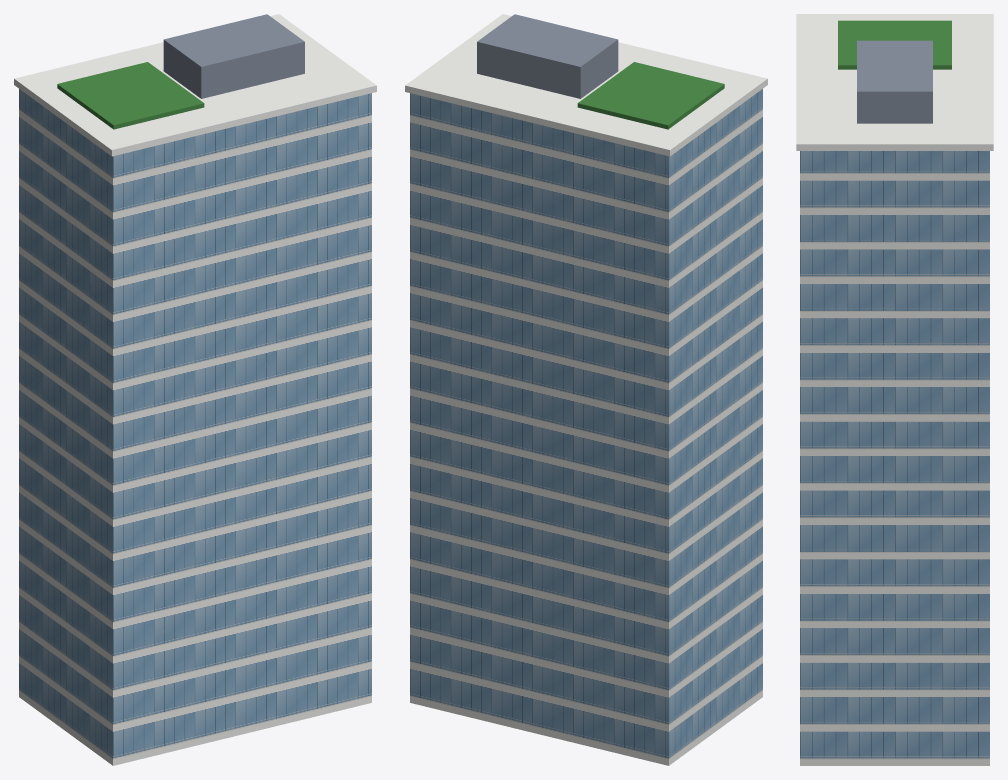
Rendered from modern_tower_a.glb.
The picture shows the model from 3 angles, left to right: view 1: azimuth 30°, elevation 25°; view 2: azimuth 150°, elevation 25°; view 3: azimuth 270°, elevation 25°; orthographic projection.
Visible parts, largest first — view 1: tower; view 2: tower; view 3: tower.
Boxes of the visible parts, <box> form: tower: <box>14,14,376,765</box>; tower: <box>405,14,767,765</box>; tower: <box>796,14,993,765</box>.
Size of the model in its own units: 25.99 by 60.9 by 16.6.
Materials: 4 (1 with a texture image).
